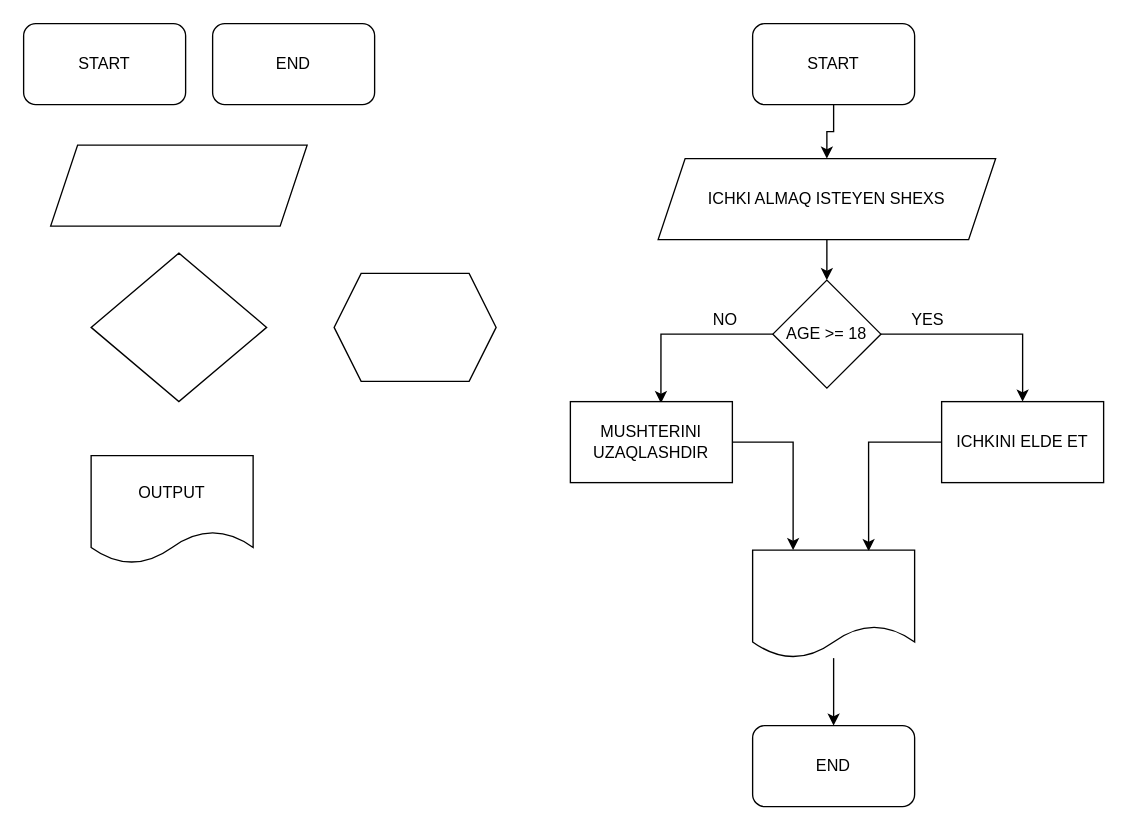
Some shapes in this 1127 by 830 pixel diagram are drawn without their labels. The shapes that lost their labels are listed below. From the top down, each one's centre as x and y in pixels, then its label:
At (x=178, y=185): "INPUT".
At (x=178, y=327): "CONDITION".
At (x=414, y=326): "LOOP".
At (x=833, y=603): "SHEXSIN ELINDE OLAN".
